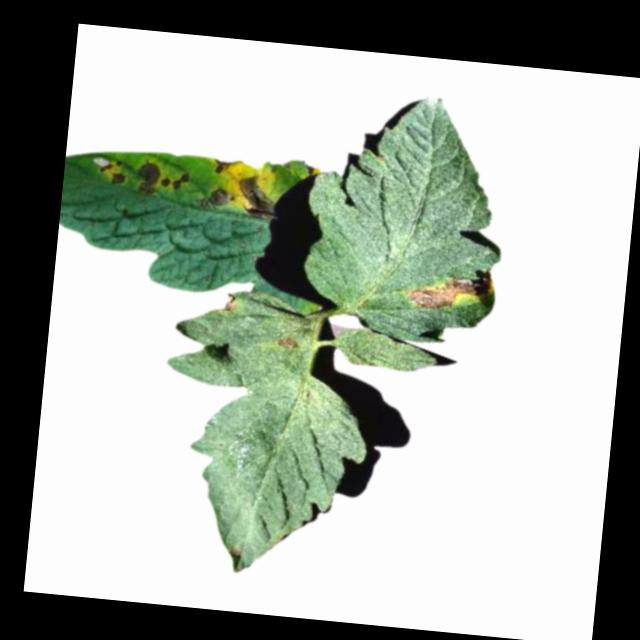Early_blight: (395, 258, 497, 313), (235, 175, 281, 221), (132, 154, 162, 195), (94, 150, 128, 184), (160, 166, 190, 192), (201, 185, 230, 210), (209, 154, 240, 177), (270, 332, 296, 351), (219, 290, 237, 312)
